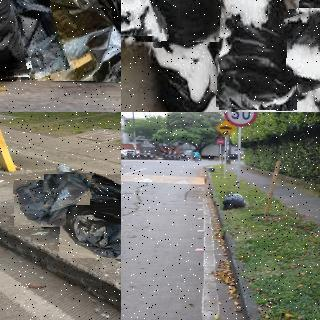Garbage: (217, 0, 298, 110), (140, 28, 227, 112), (33, 0, 121, 82), (59, 173, 121, 258), (4, 0, 60, 78), (135, 0, 231, 45), (282, 3, 320, 89), (14, 179, 65, 228), (42, 171, 91, 209), (220, 190, 249, 210)
